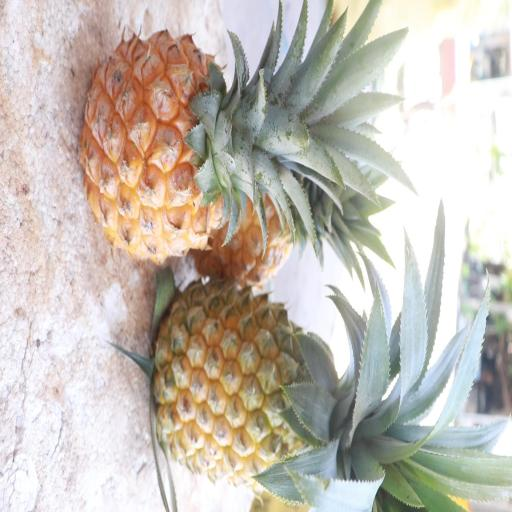Pineapple - v8 v1: (148, 269, 421, 492), (76, 26, 324, 262), (186, 117, 354, 288)
